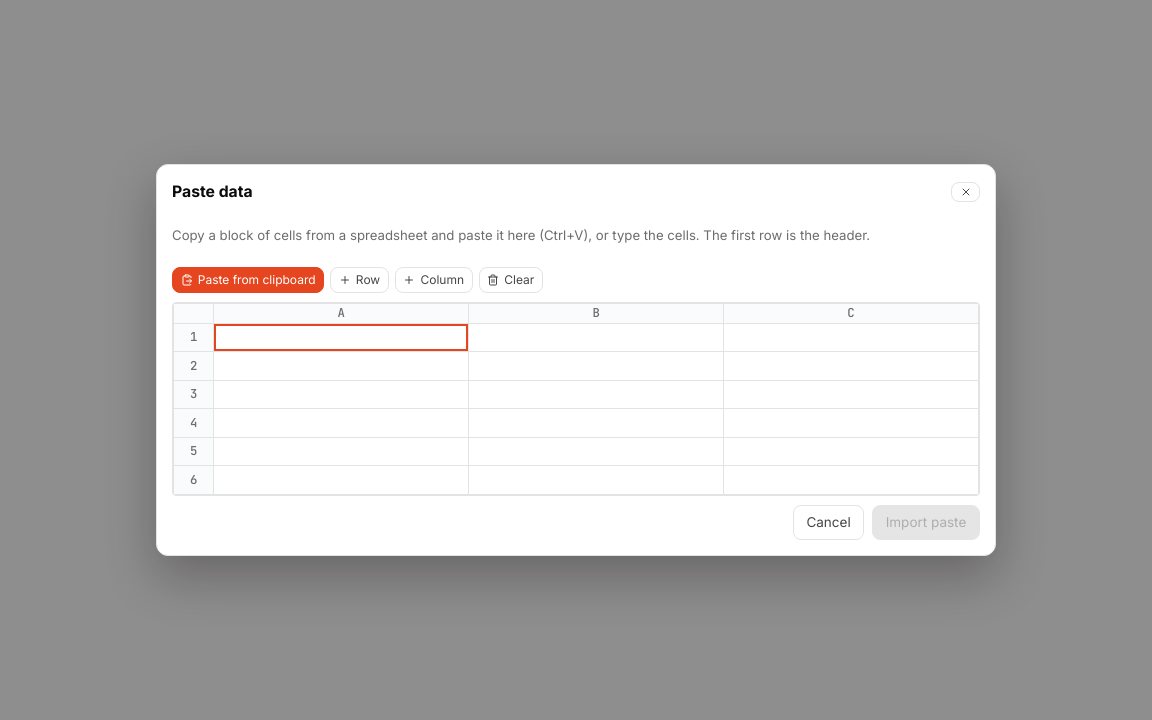
it: SpreadsheetPaste › disables the import until something is entered
Check: the button "Import paste" is disabled, box 872,504 -> 980,540
Type "1" into the field named "A1".
click(341, 338); type("1")  # box 214,324 -> 468,351
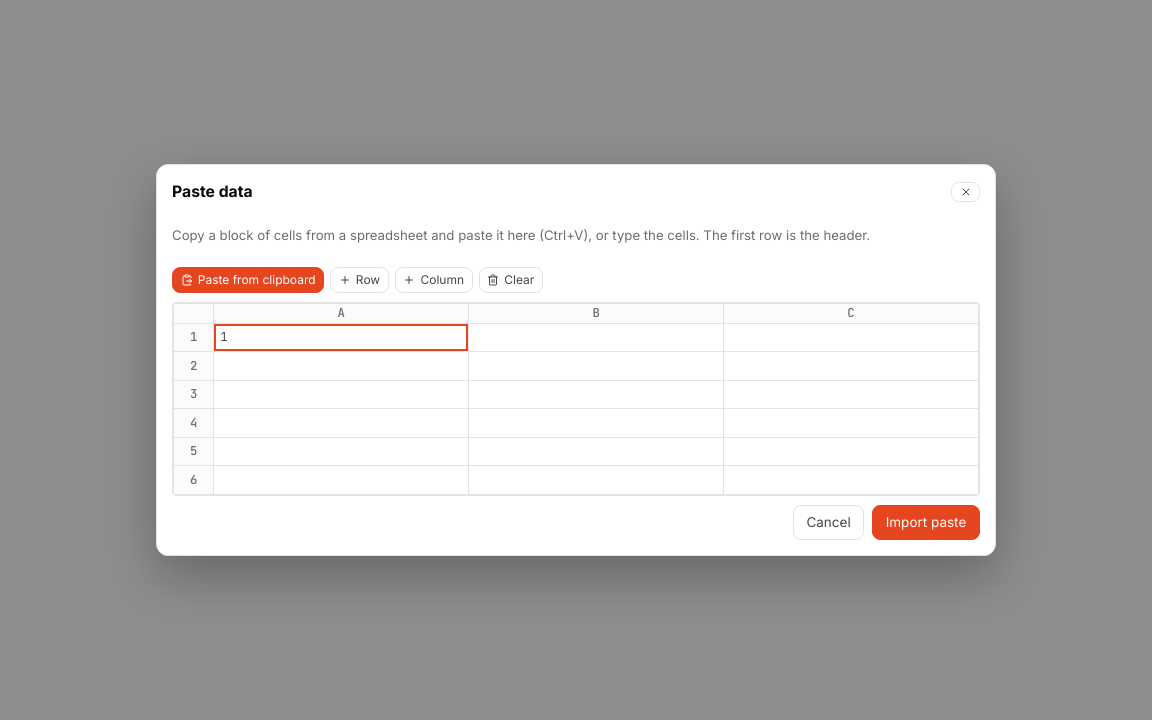
Check: the button "Import paste" is enabled, box 872,504 -> 980,540
